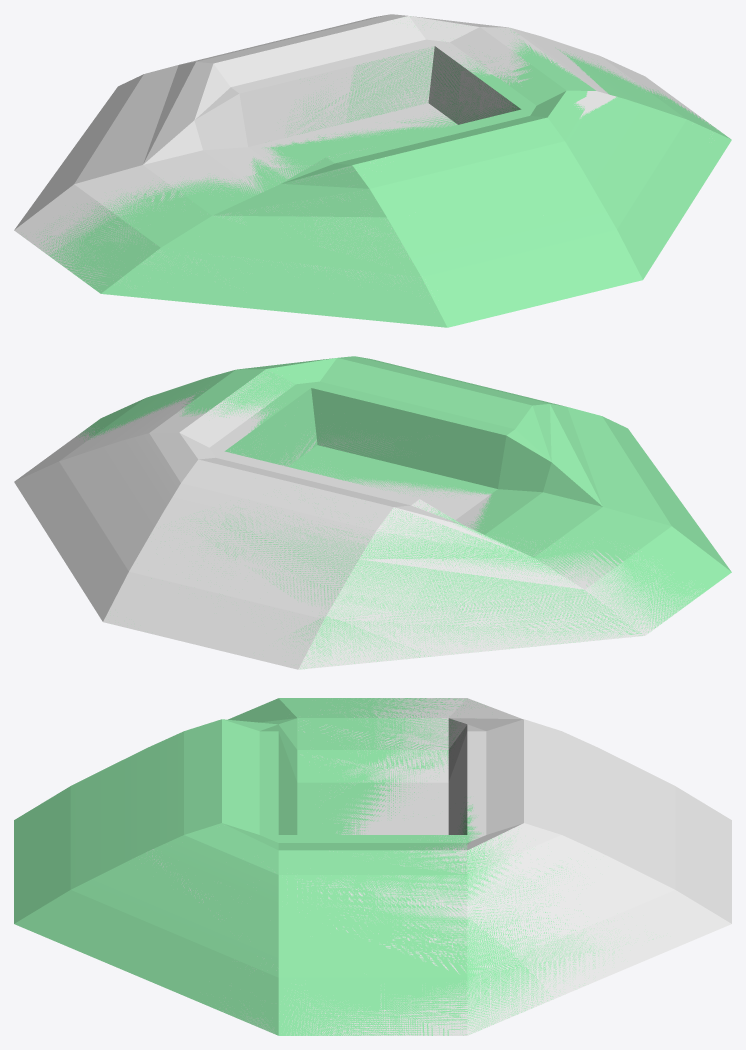
File: VehicleDugout_BTR.fbx
3 views of the same model, one above another, from view 1: azimuth 30°, elevation 25°; view 2: azimuth 150°, elevation 25°; view 3: azimuth 270°, elevation 25° (orthographic). The views are drawn at different scales.
Visible parts, largest first — view 1: UTM_VehicleDugoutBTR, VehicleDugoutBTR_LOD0; view 2: VehicleDugoutBTR_LOD0, UTM_VehicleDugoutBTR; view 3: UTM_VehicleDugoutBTR, VehicleDugoutBTR_LOD0.
Boxes of the visible parts, left/top/right/bottom form: UTM_VehicleDugoutBTR: left=34, top=23, right=731, bottom=327; VehicleDugoutBTR_LOD0: left=14, top=14, right=721, bottom=295; VehicleDugoutBTR_LOD0: left=14, top=371, right=704, bottom=669; UTM_VehicleDugoutBTR: left=76, top=356, right=731, bottom=669; UTM_VehicleDugoutBTR: left=14, top=698, right=653, bottom=1035; VehicleDugoutBTR_LOD0: left=139, top=698, right=731, bottom=1035.
Bounding box in the file's own units: 2100 × 295 × 1900.
